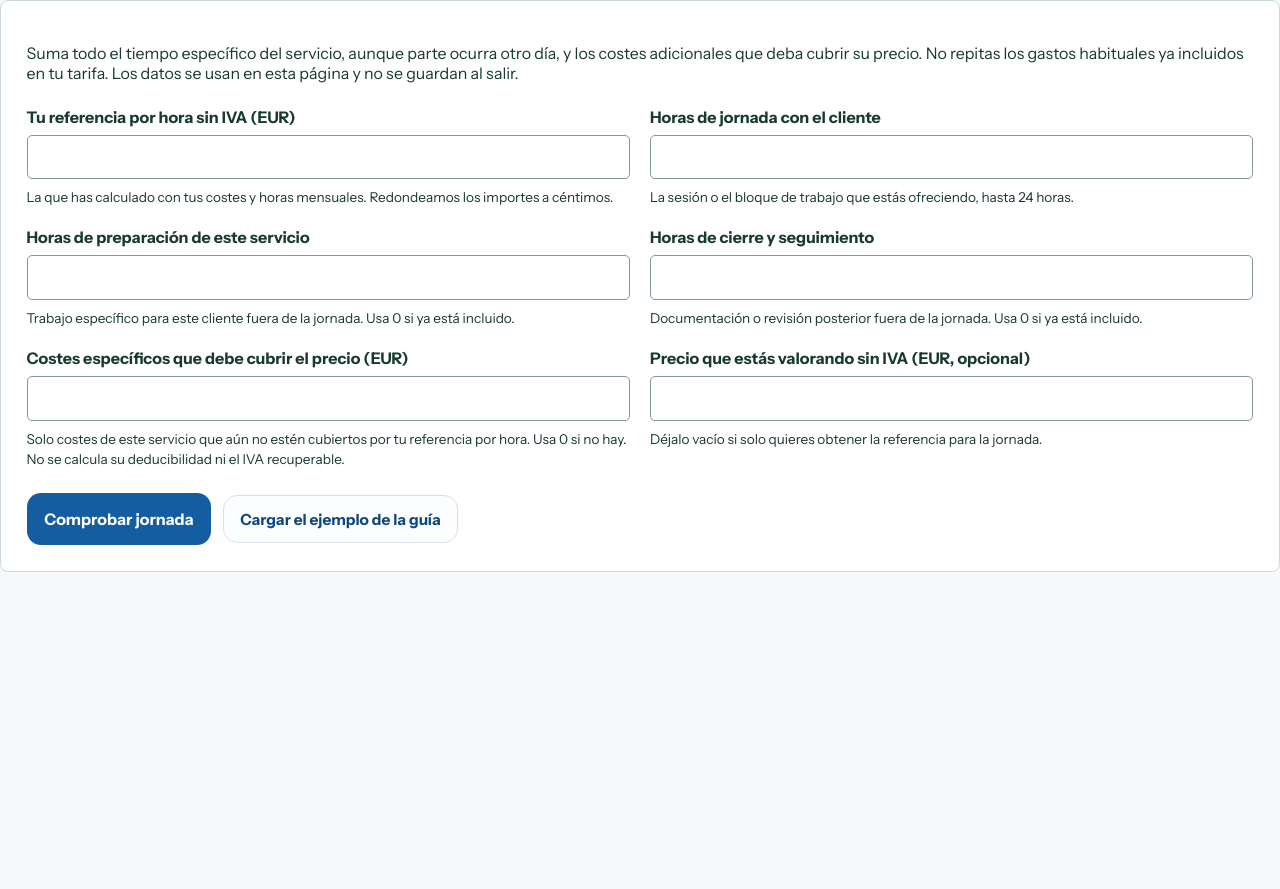
day-rate planner › loads the clearly marked example without conversion events or stale results after editing
This screenshot has width=1280, height=889.
Click the button "Cargar el ejemplo de la guía": [341, 519] box [223,495,458,543]
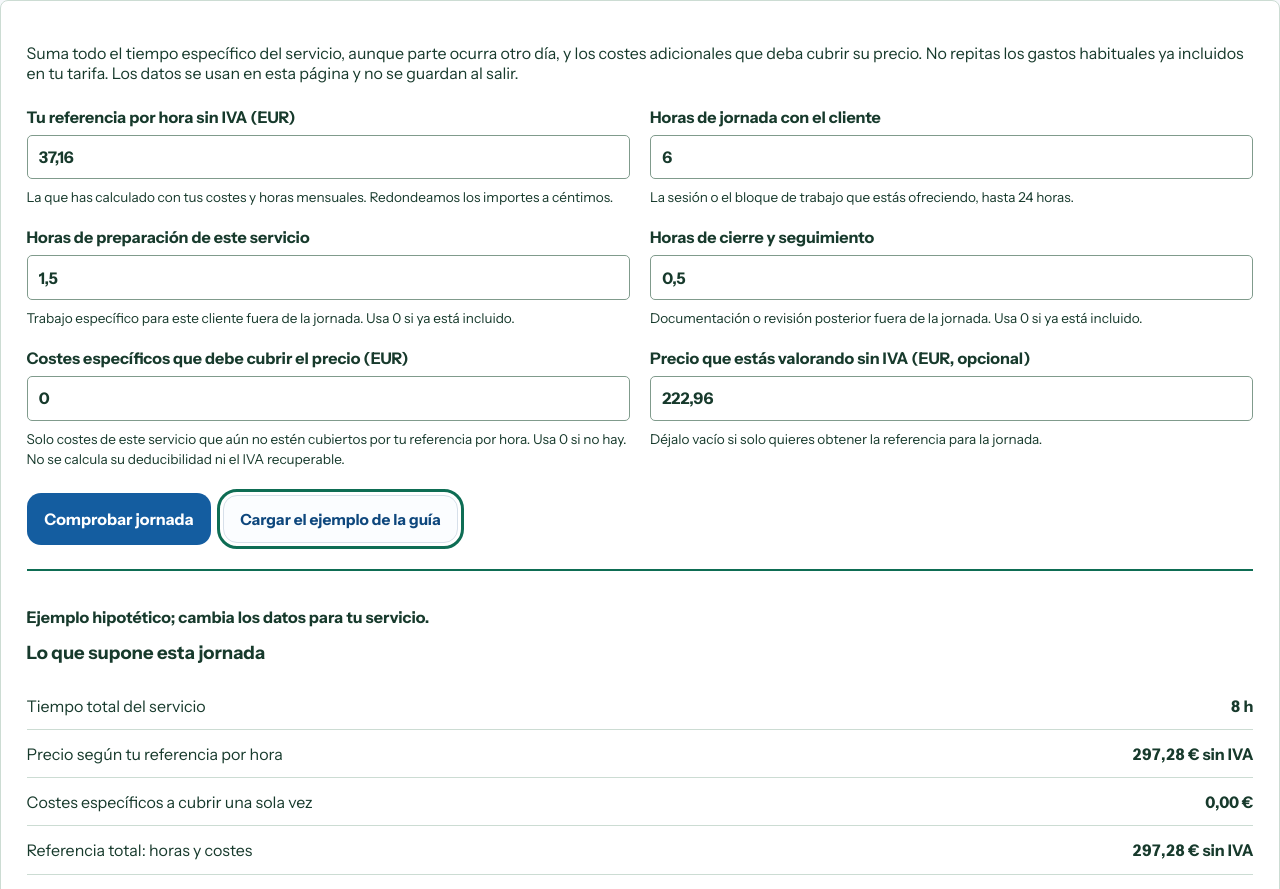
Now the message shows "297,28", box [1132,744,1200,764]
Now the message shows "Ejemplo hipotético", box [27,607,429,627]
Replace the text in the field labelled "Horas de preparación de este servicio" with "2": [328, 278] box [27,255,630,300]
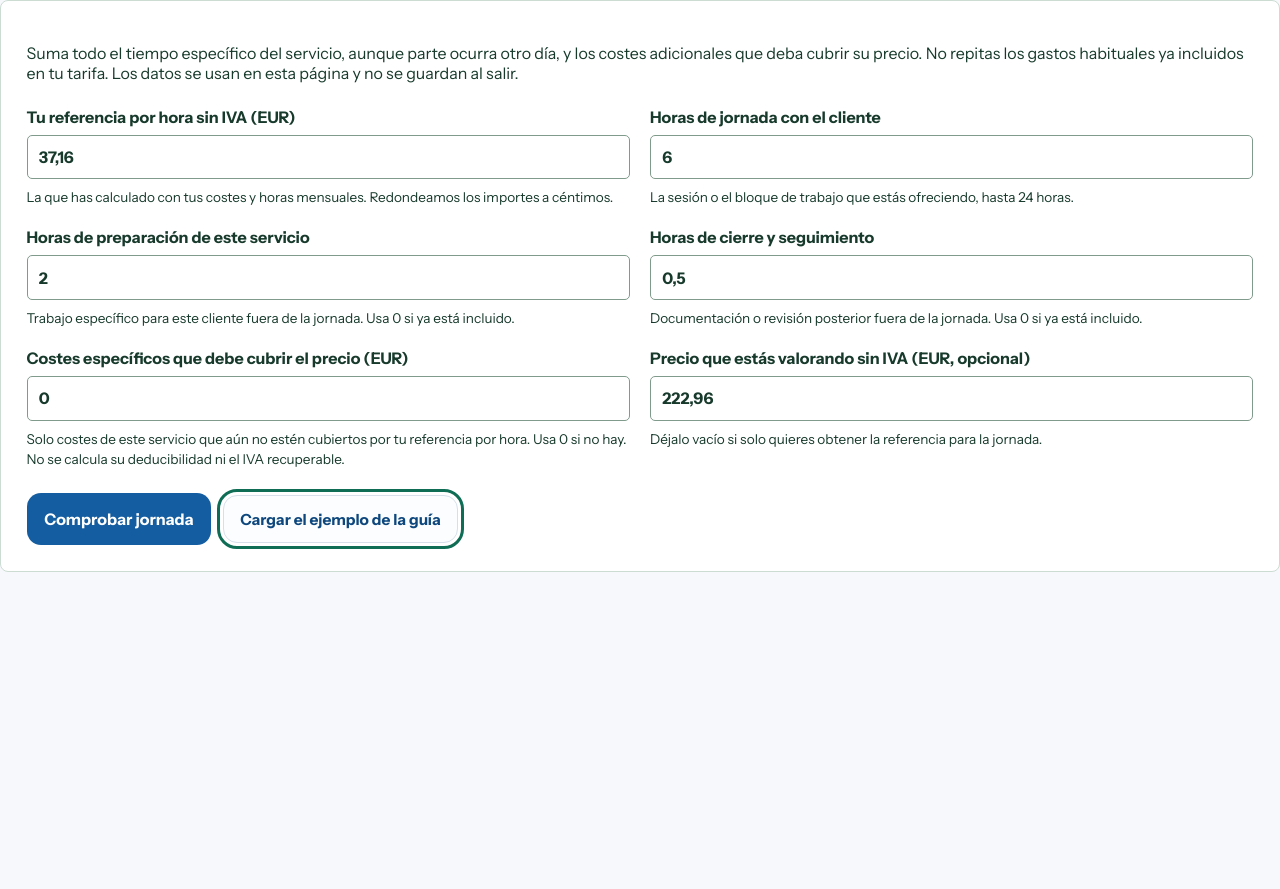
Now the heading "Lo que supone esta jornada" is gone
